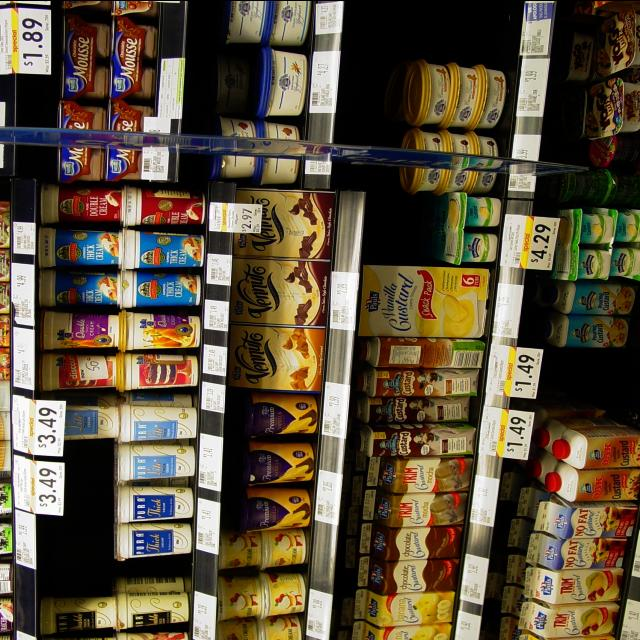empty_space: (389, 0, 499, 55), (552, 357, 640, 399)
